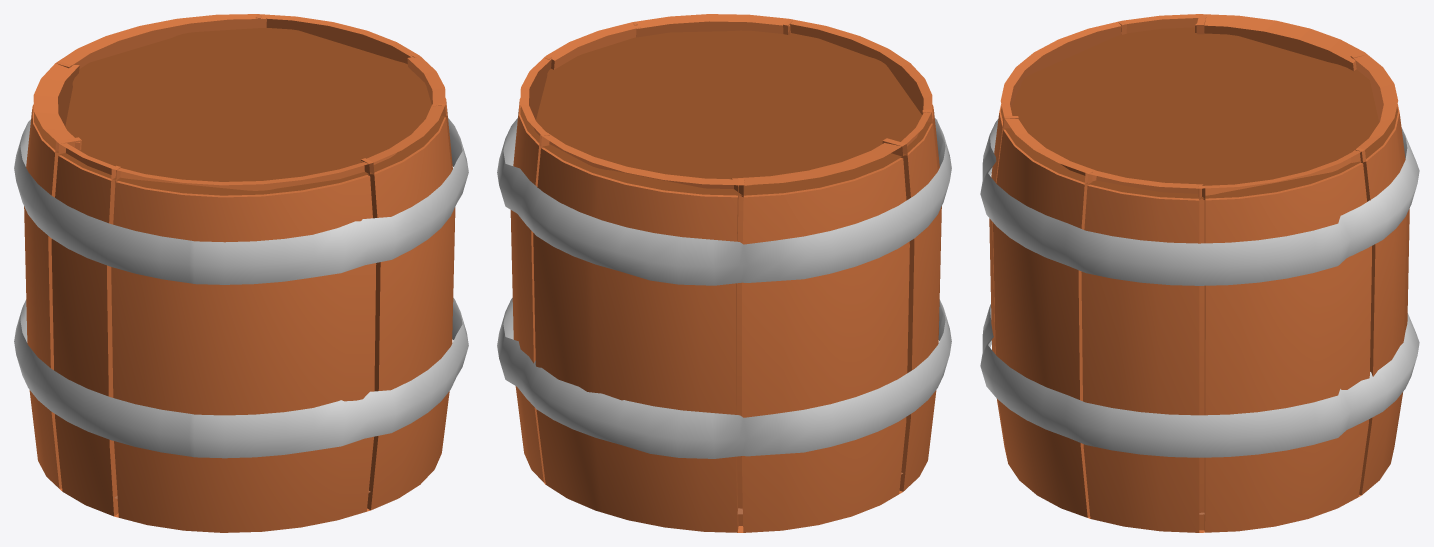
The model's file is barril1.glb.
3 views of the same model, side by side, from view 1: azimuth 30°, elevation 25°; view 2: azimuth 150°, elevation 25°; view 3: azimuth 270°, elevation 25° (orthographic).
Visible parts, largest first — view 1: Cylinder, Cylinder.001, Torus, Torus.001; view 2: Cylinder, Cylinder.001, Torus, Torus.001; view 3: Cylinder, Cylinder.001, Torus, Torus.001.
Boxes of the visible parts, bbox=[...] form: Cylinder: bbox=[24, 14, 455, 532]; Cylinder.001: bbox=[33, 28, 444, 195]; Torus: bbox=[14, 118, 468, 284]; Torus.001: bbox=[14, 298, 468, 458]; Cylinder: bbox=[510, 14, 941, 532]; Cylinder.001: bbox=[520, 30, 932, 195]; Torus: bbox=[497, 118, 951, 285]; Torus.001: bbox=[497, 298, 951, 458]; Cylinder: bbox=[989, 14, 1409, 532]; Cylinder.001: bbox=[1000, 27, 1398, 198]; Torus: bbox=[980, 119, 1419, 285]; Torus.001: bbox=[980, 304, 1419, 457].
Size of the model in its own units: 2.39 by 2.04 by 2.35.
